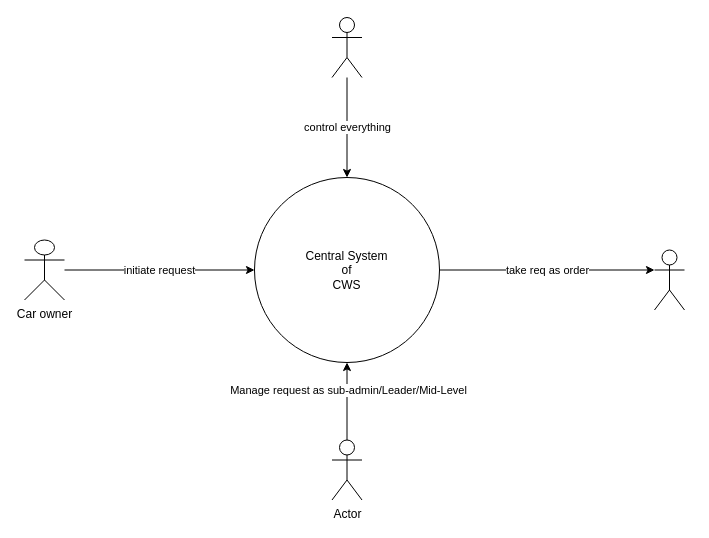
Some shapes in this 709 by 538 pixel diagram are drawn without their labels. Here are the shapes that lost their labels. From the top down, the centre of each, then its label:
the point at 346,47: Super Admin
the point at 669,279: washers
